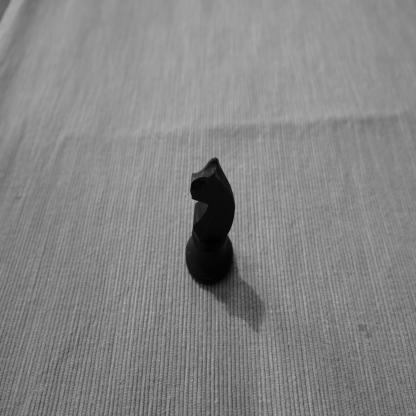black-knight: (184, 156, 237, 288)
